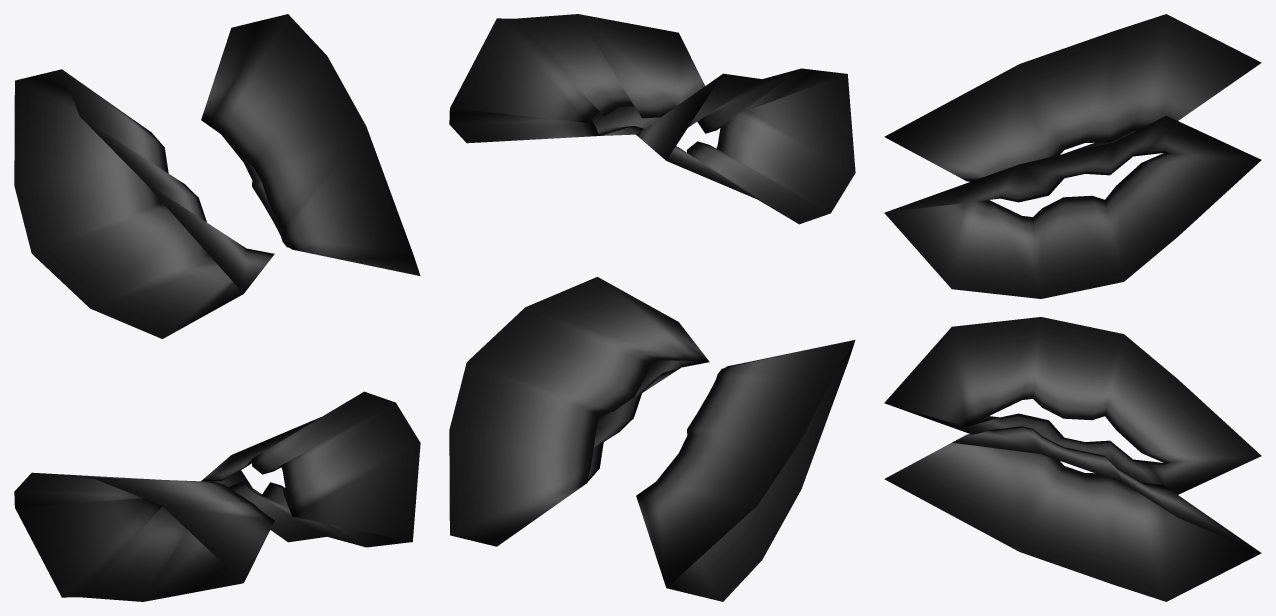
The model's file is zhufudatianshizhizhang003.fbx.
3 renders of one model, left to right at view 1: azimuth 30°, elevation 25°; view 2: azimuth 150°, elevation 25°; view 3: azimuth 270°, elevation 25°, orthographic. The views are drawn at different scales.
Visible parts, largest first — view 1: zhufudatianshizhizhang003; view 2: zhufudatianshizhizhang003; view 3: zhufudatianshizhizhang003.
Boxes of the visible parts, left/top/right/bottom form: zhufudatianshizhizhang003: left=14, top=14, right=420, bottom=601; zhufudatianshizhizhang003: left=449, top=14, right=855, bottom=601; zhufudatianshizhizhang003: left=884, top=14, right=1261, bottom=601.
Bounding box in the file's own units: 166 × 252 × 177.
